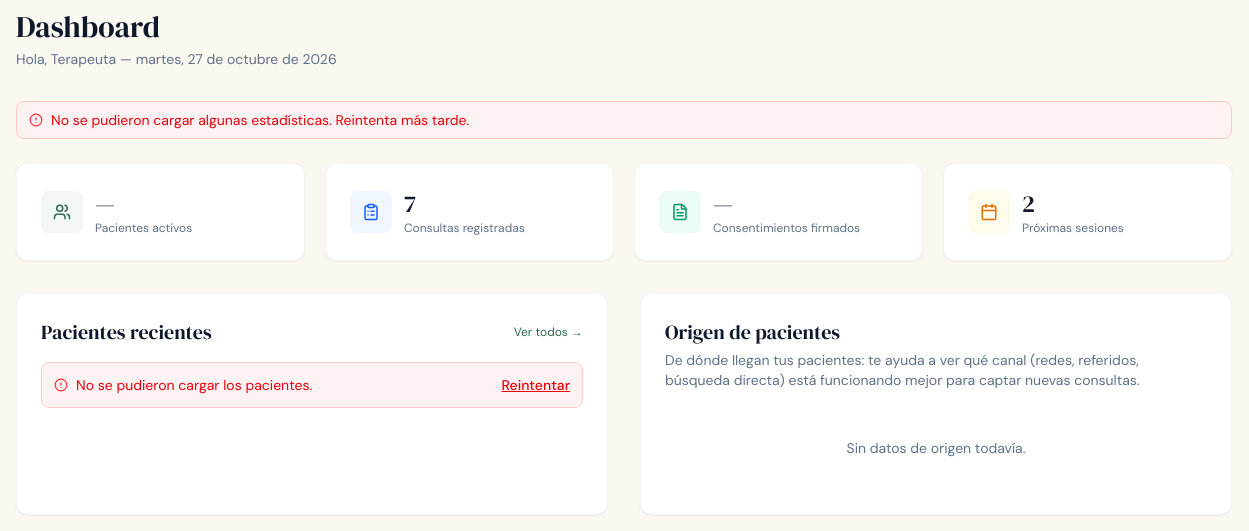
Test case: DashboardPage — issue #294 carga y error distintos de vacío › si falla la carga de pacientes no muestra el vacío ni ceros, y permite reintentar
Expected: the text "No se pudieron cargar los pacientes." is shown, 76,375 -> 312,395
Expected: the text "No hay pacientes registrados aún." is not shown
Click the button "Reintentar" at {"x": 536, "y": 385}, box 502,375 -> 570,395
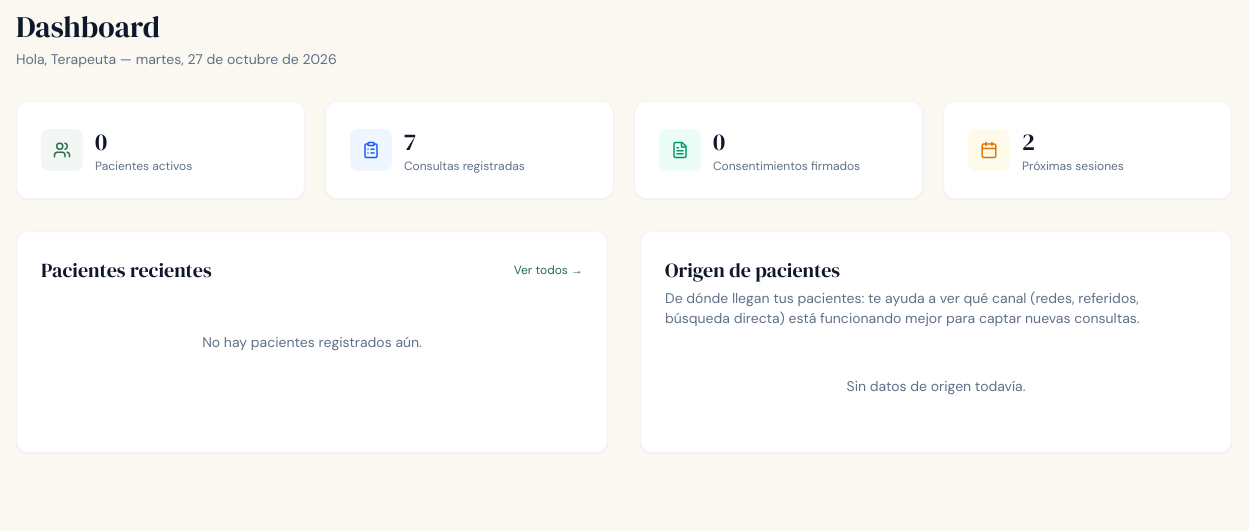
Now the text "No hay pacientes registrados aún." is shown, box 202,332 -> 422,352
